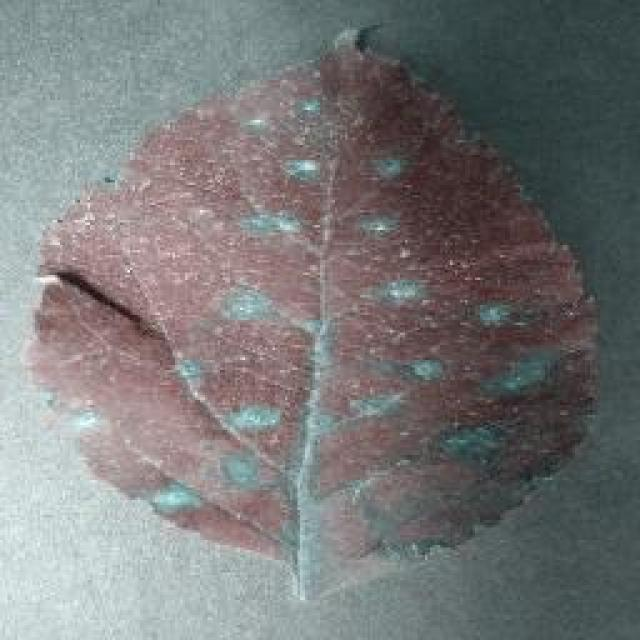apple healthy: (22, 22, 602, 592)
